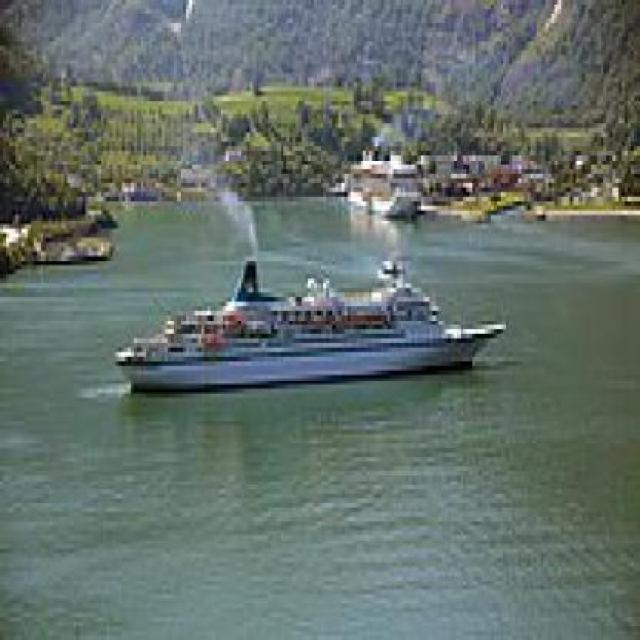cruise: (111, 257, 517, 413), (346, 143, 427, 225)
